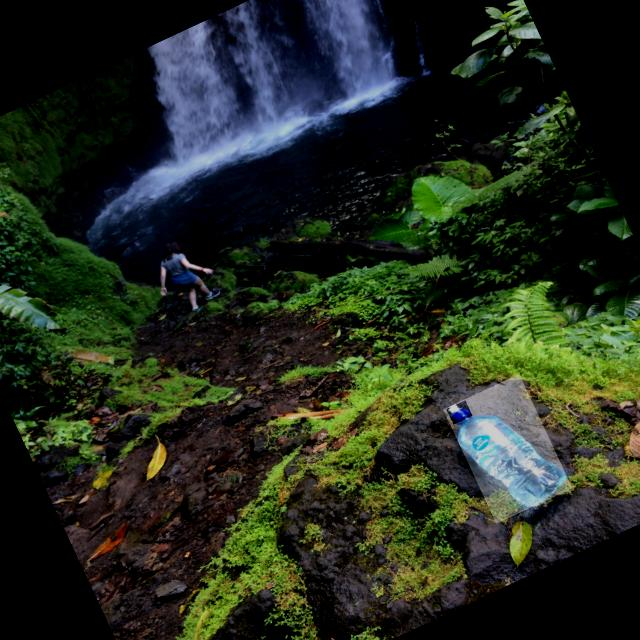Bottle cap: (449, 405, 471, 423)
Clear plastic bottle: (449, 404, 567, 507)
